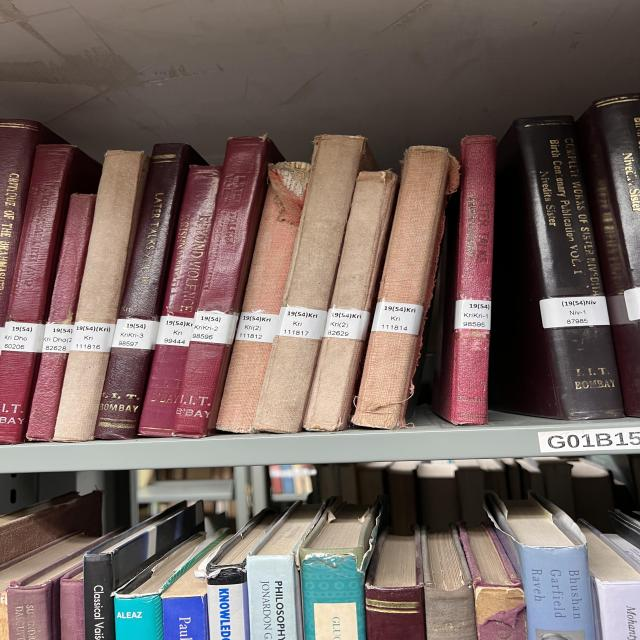Book: (490, 116, 623, 420), (253, 135, 377, 432), (173, 136, 282, 438), (95, 144, 203, 439), (352, 146, 460, 429), (0, 145, 100, 444), (53, 150, 148, 441), (217, 161, 310, 432), (303, 170, 398, 431), (138, 165, 222, 436), (433, 135, 497, 425), (27, 194, 97, 441)
Label: (540, 296, 610, 329), (372, 301, 423, 335), (277, 306, 327, 340), (190, 311, 238, 344), (323, 309, 370, 340), (112, 319, 158, 350), (70, 321, 115, 352), (2, 321, 45, 352), (235, 312, 278, 342), (455, 299, 492, 330), (157, 315, 193, 346), (42, 322, 73, 354)
